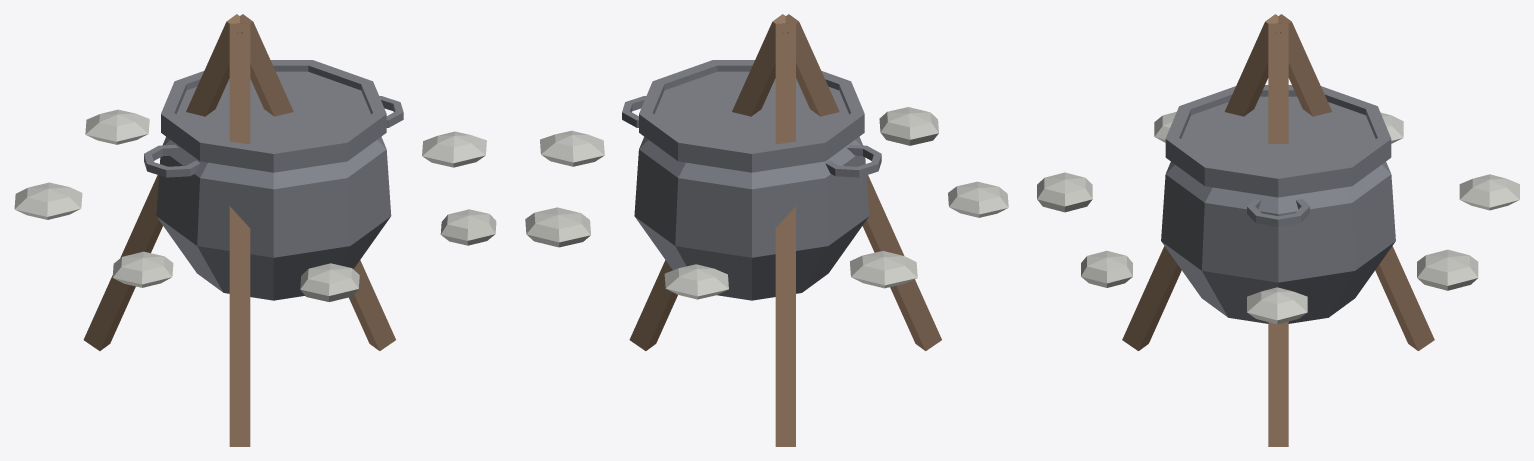
File: town_cauldron_on_tripod.glb
The picture shows the model from 3 angles, left to right: view 1: azimuth 30°, elevation 25°; view 2: azimuth 150°, elevation 25°; view 3: azimuth 270°, elevation 25°; orthographic projection.
Visible parts, largest first — view 1: world; view 2: world; view 3: world.
Part boxes in pixels (left/top/right/bottom): world: left=14, top=14, right=496, bottom=446; world: left=525, top=14, right=1008, bottom=446; world: left=1037, top=14, right=1519, bottom=446.
Size of the model in its own units: 2 by 1.62 by 1.97.
